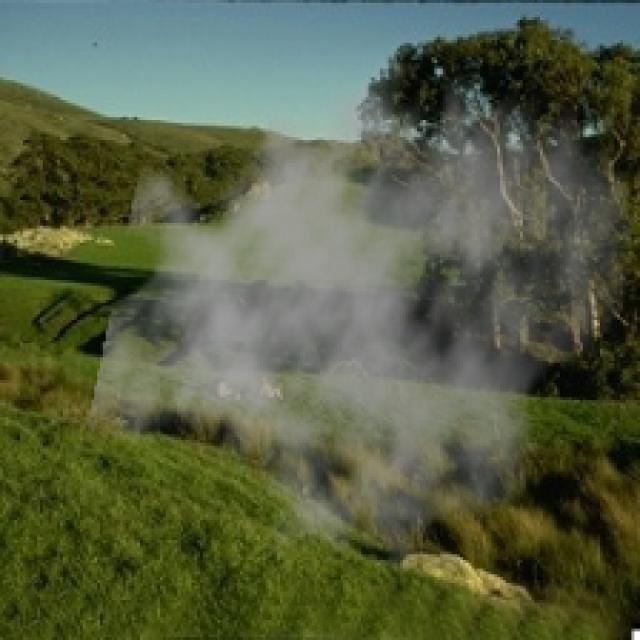Smoke: (85, 22, 638, 578)
